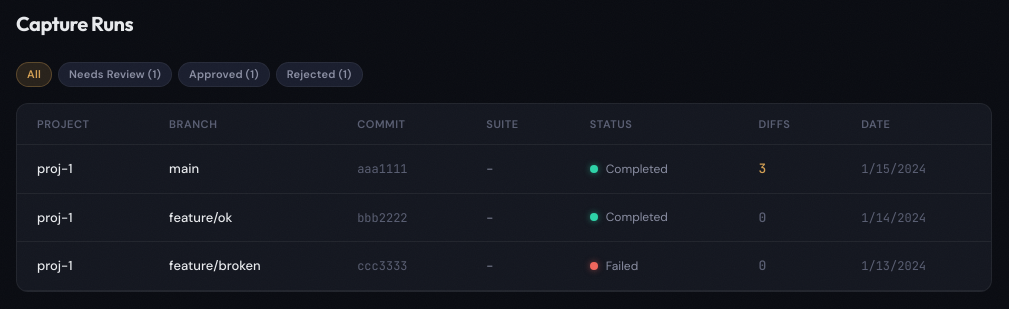
Scenario: RunsPage › swim lane filter tabs › filters runs when lane clicked
The width and height of the screenshot is (1009, 309).
Click "Rejected" tab
Click the button "Rejected (1)" at (319, 74), box 276,62 -> 363,86
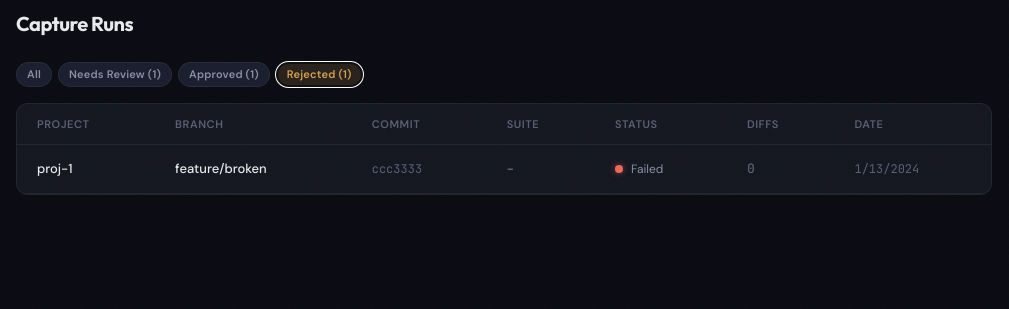
Check: the link "feature/broken" is shown, box 175,160 -> 267,177
Check: the link "main" is gone
Check: the link "feature/ok" is gone
